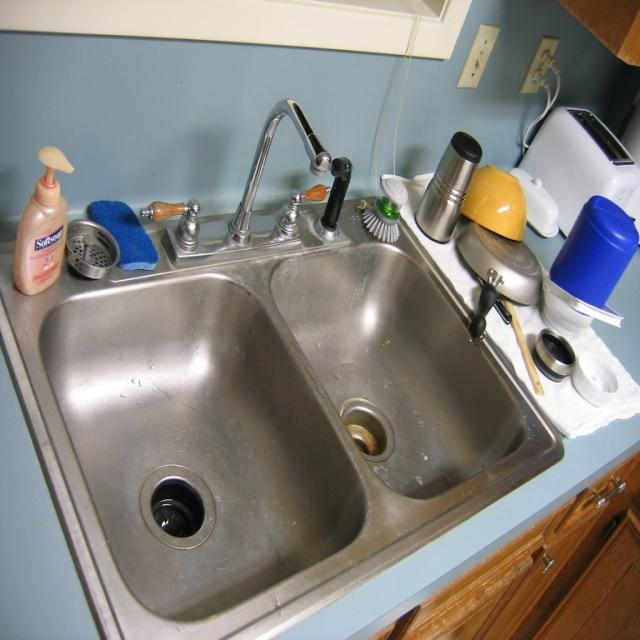Metal: (91, 137, 407, 632)
Plastics: (542, 105, 640, 301), (16, 134, 79, 302), (476, 166, 546, 241)
